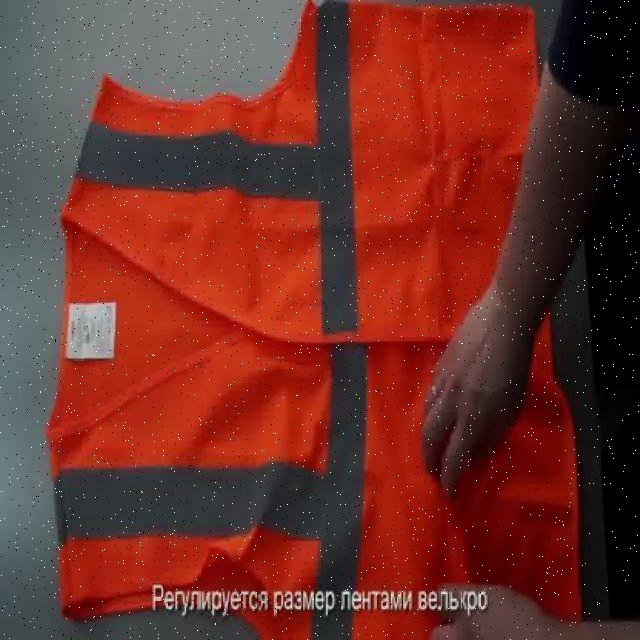Mask: (44, 0, 586, 638)
